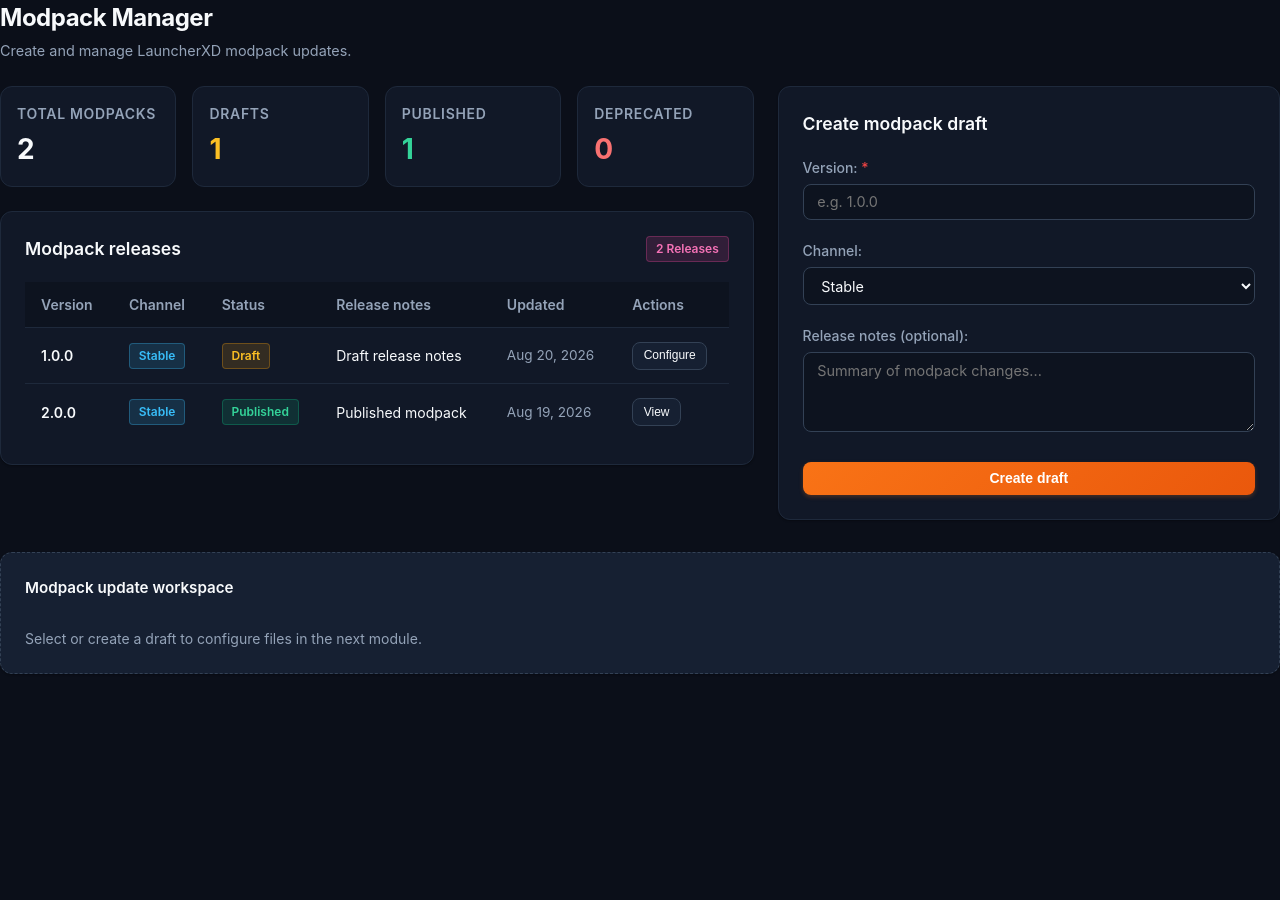
Test: Modpack Safe Purge Everywhere UI Tests (Phase 7F) › 1. Danger Zone controls appear in draft releases with dual confirmation inputs
The image size is (1280, 900).
Click the button with test id "configure-modpack-modpack-draft-1".
click(670, 356)  # box [632,342,707,370]
(page scrolled)
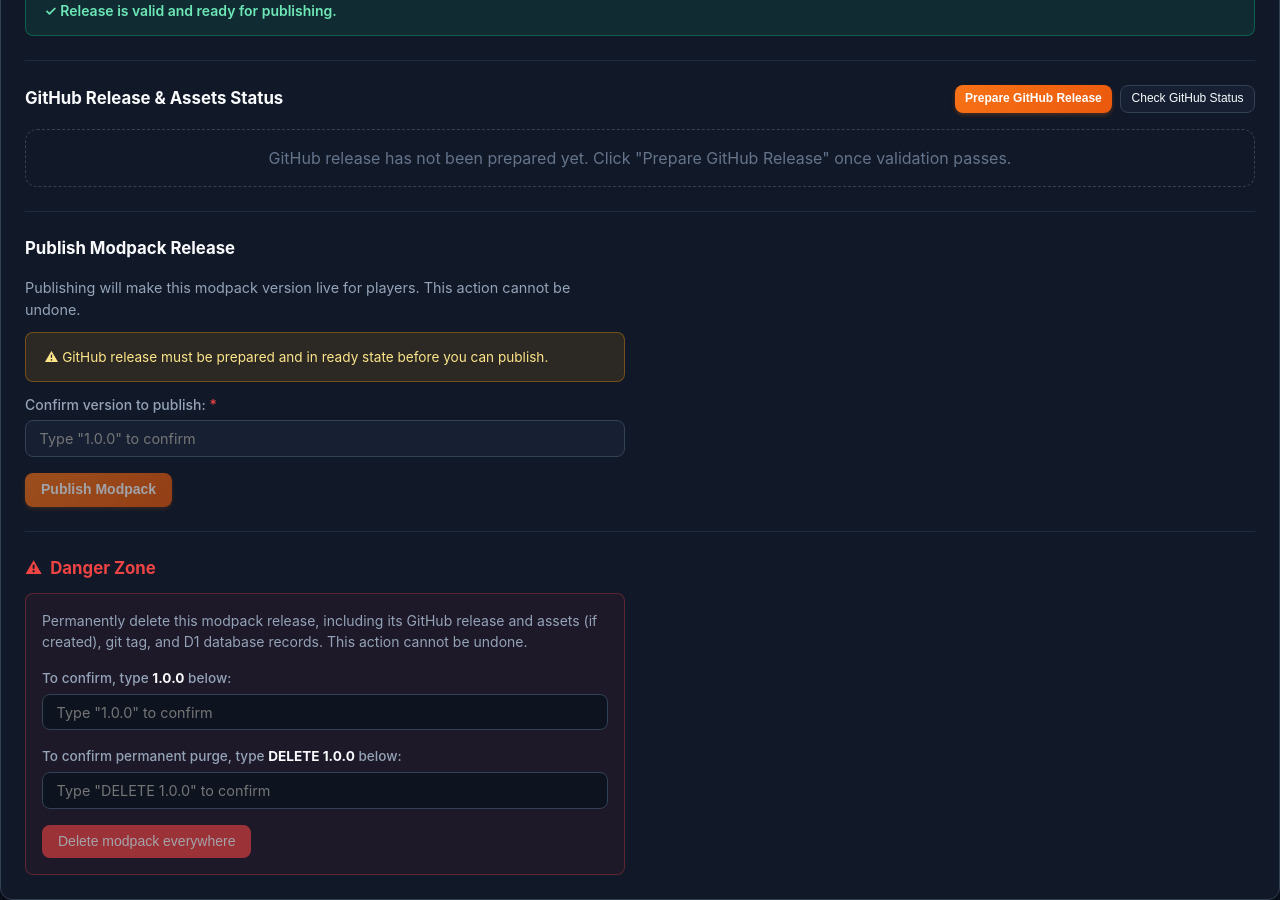
Check: the element with test id "danger-zone-section" is shown, box [25,531,1255,875]
Check: the element with test id "draft-danger-zone-controls" is shown, box [25,593,625,876]
Check: the field with test id "confirm-delete-version-input" is shown, box [42,694,608,730]
